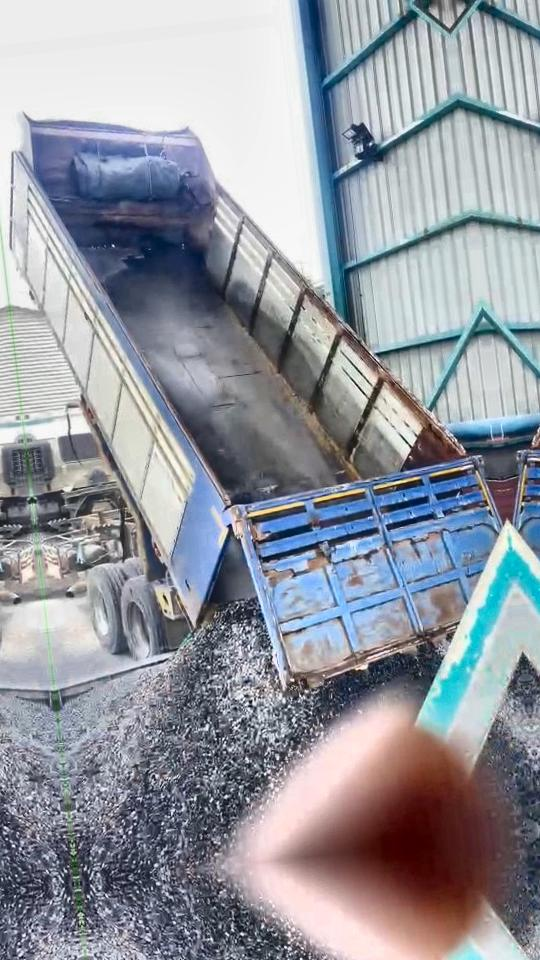gravel: (60, 600, 439, 883), (483, 648, 540, 827)
